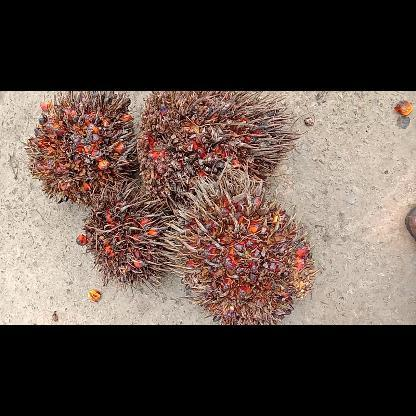Terlalu masak: (165, 170, 322, 324), (138, 91, 296, 209), (22, 90, 140, 209), (79, 177, 181, 297)
